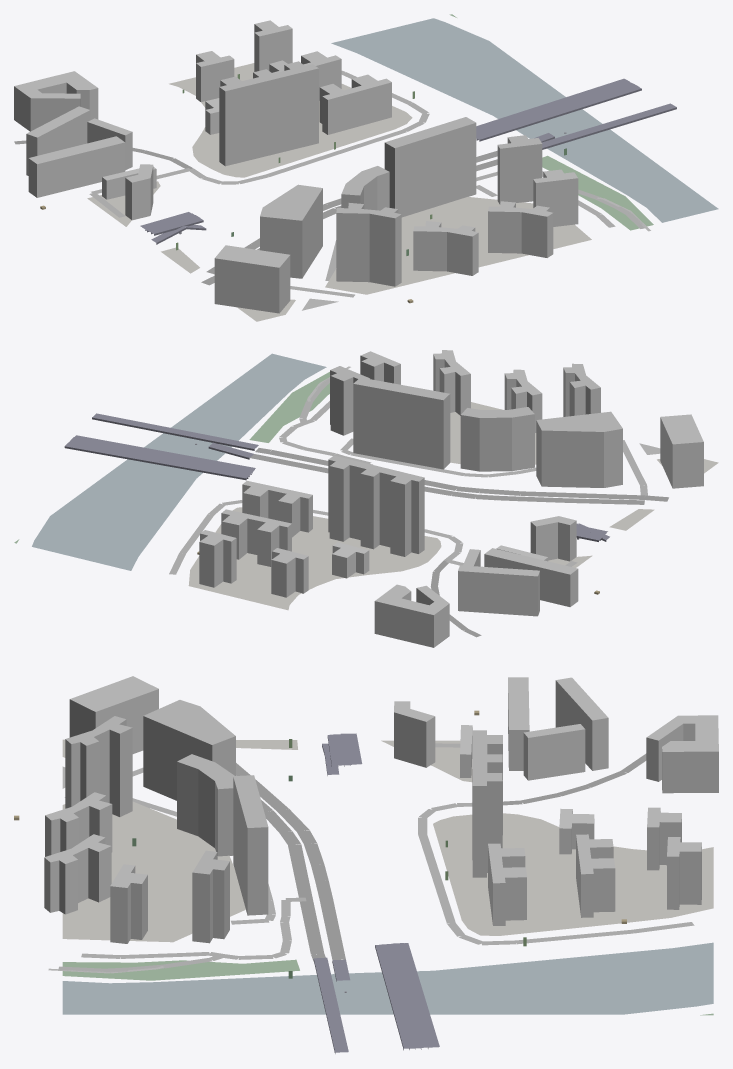
The picture shows the model from 3 angles, top to bottom: view 1: azimuth 30°, elevation 25°; view 2: azimuth 150°, elevation 25°; view 3: azimuth 270°, elevation 25°; orthographic projection. The views are drawn at different scales.
Size of the model in its own units: 625 by 79.17 by 542.
